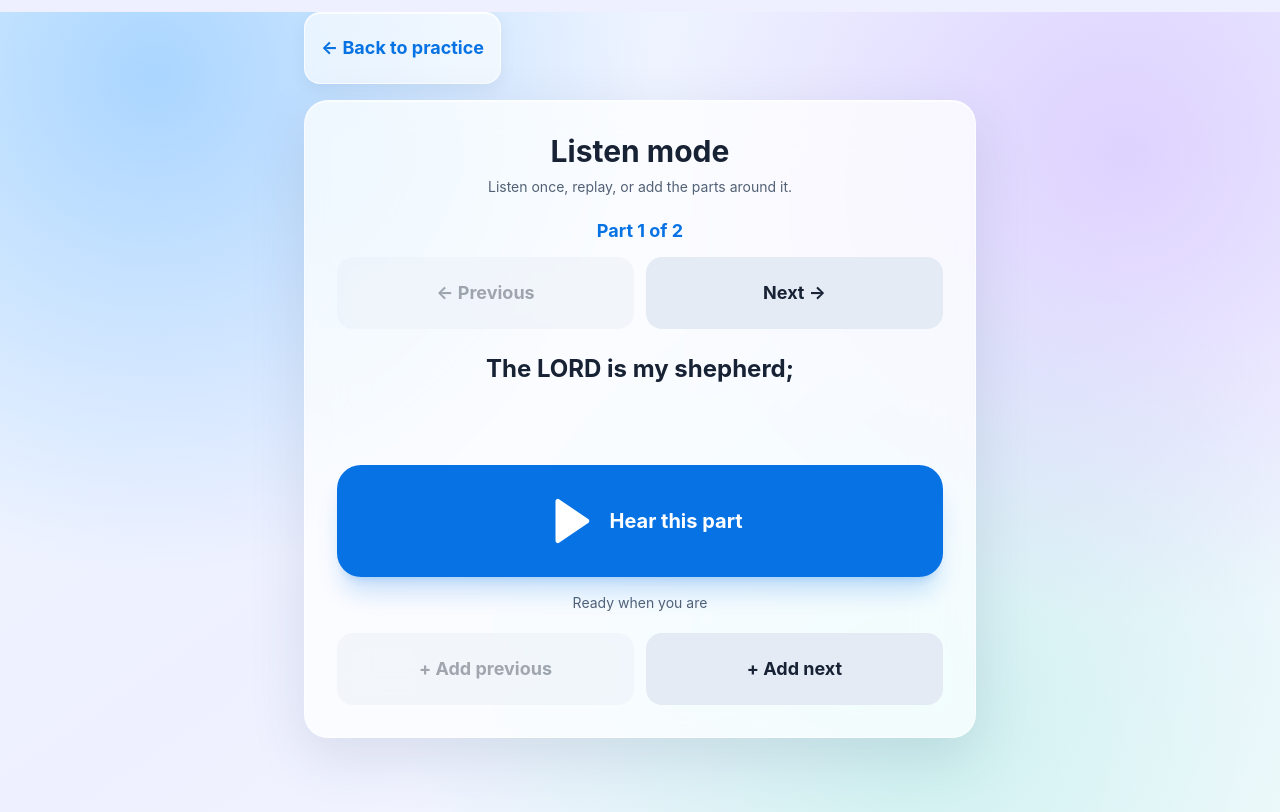
Scenario: Listen mode › shows playback errors and lets the user retry
Click the button "Hear this part".
click(640, 521)  # box [337,465,943,577]
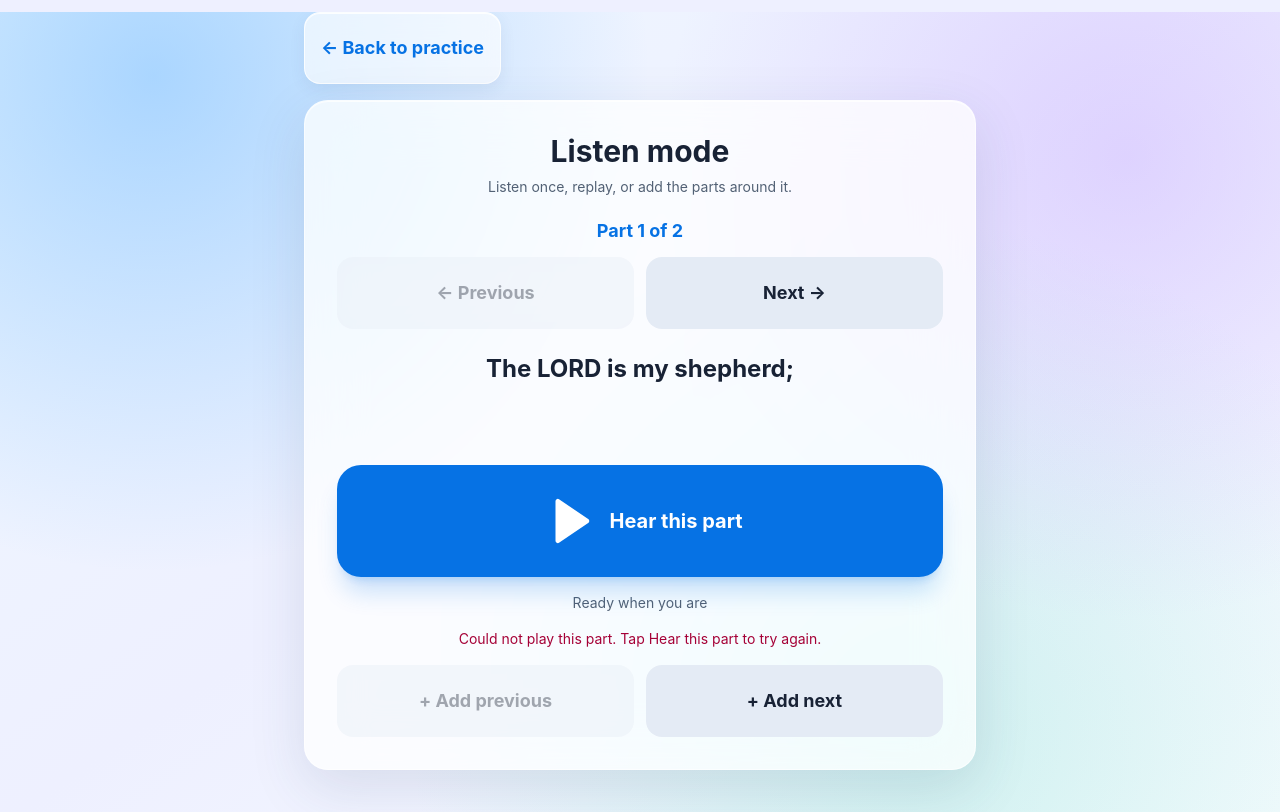
Expected: the message "Could not play this part. Tap Hear this part to try again." is shown, [459,630,821,647]
Click the button "Hear this part".
click(640, 521)  # box [337,465,943,577]
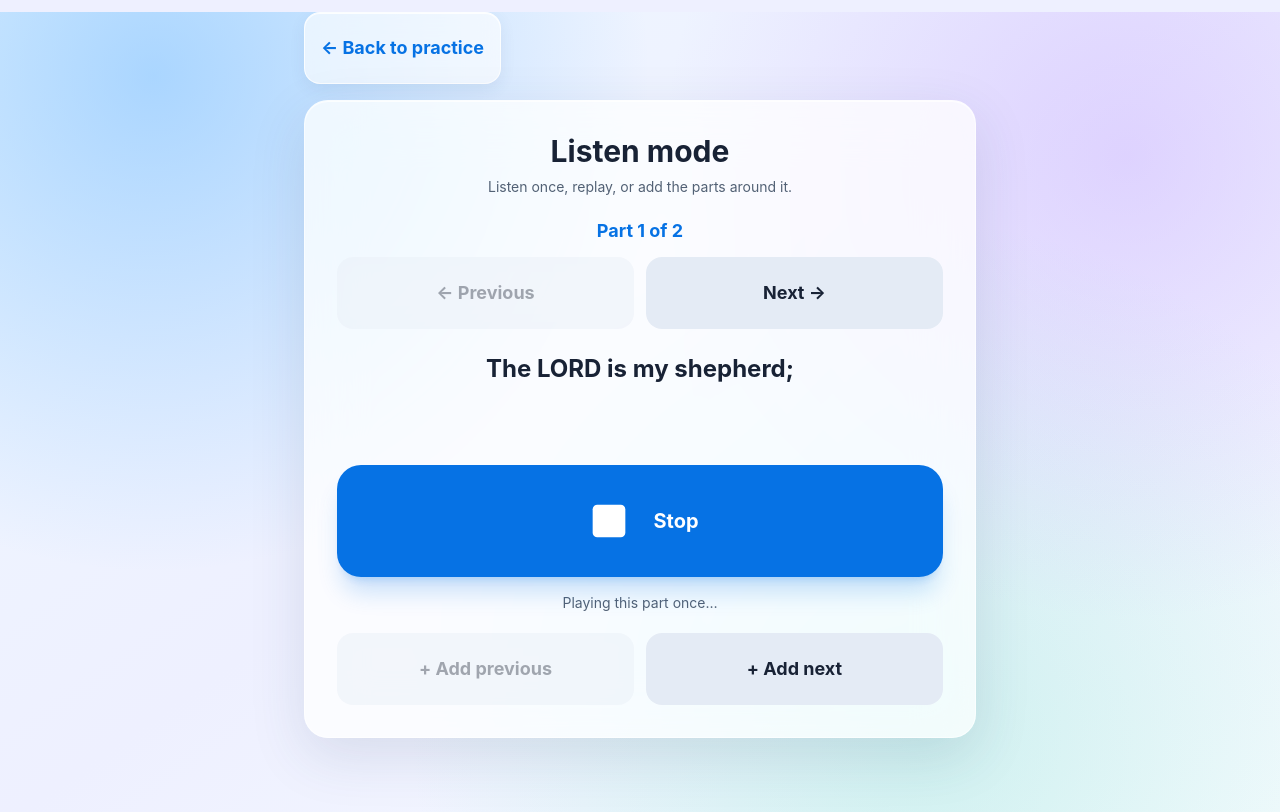
Expected: the message "Could not play this part. Tap Hear this part to try again." is gone
